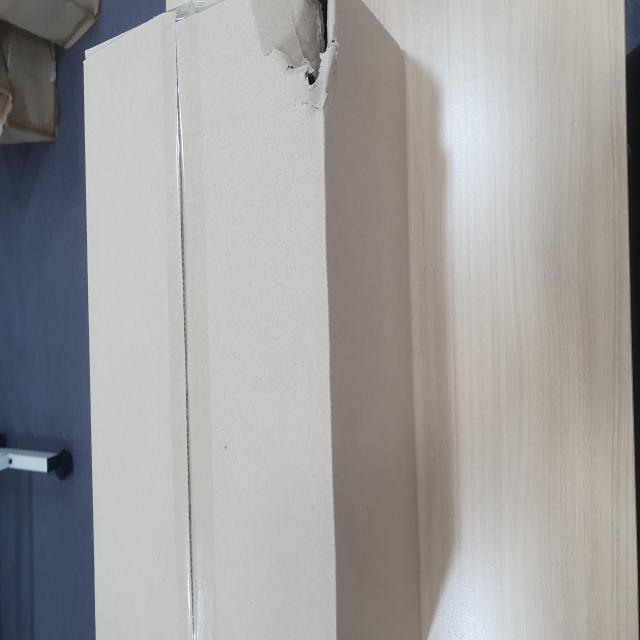damaged: (276, 0, 348, 99)
